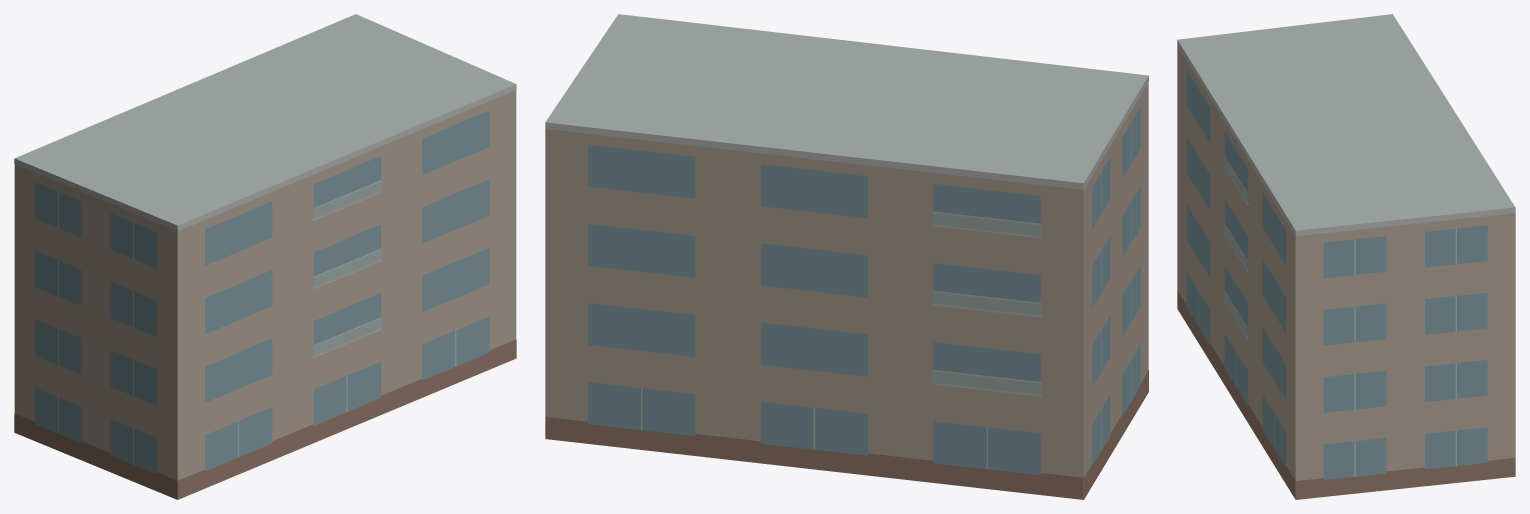
File: survey-upis-32569164.glb
3 views of the same model, side by side, from view 1: azimuth 30°, elevation 25°; view 2: azimuth 150°, elevation 25°; view 3: azimuth 270°, elevation 25° (orthographic). The views are drawn at different scales.
Parts seen in each view (by area): view 1: survey-upis-32569164.tmp; view 2: survey-upis-32569164.tmp; view 3: survey-upis-32569164.tmp.
Boxes of the visible parts, left/top/right/bottom form: survey-upis-32569164.tmp: left=14, top=14, right=516, bottom=499; survey-upis-32569164.tmp: left=545, top=14, right=1148, bottom=499; survey-upis-32569164.tmp: left=1177, top=14, right=1515, bottom=499.
Size of the model in its own units: 20.21 by 11.7 by 13.33.
